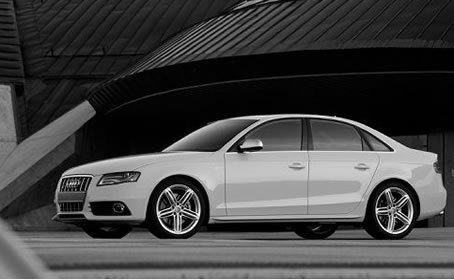car: (54, 116, 450, 243)
